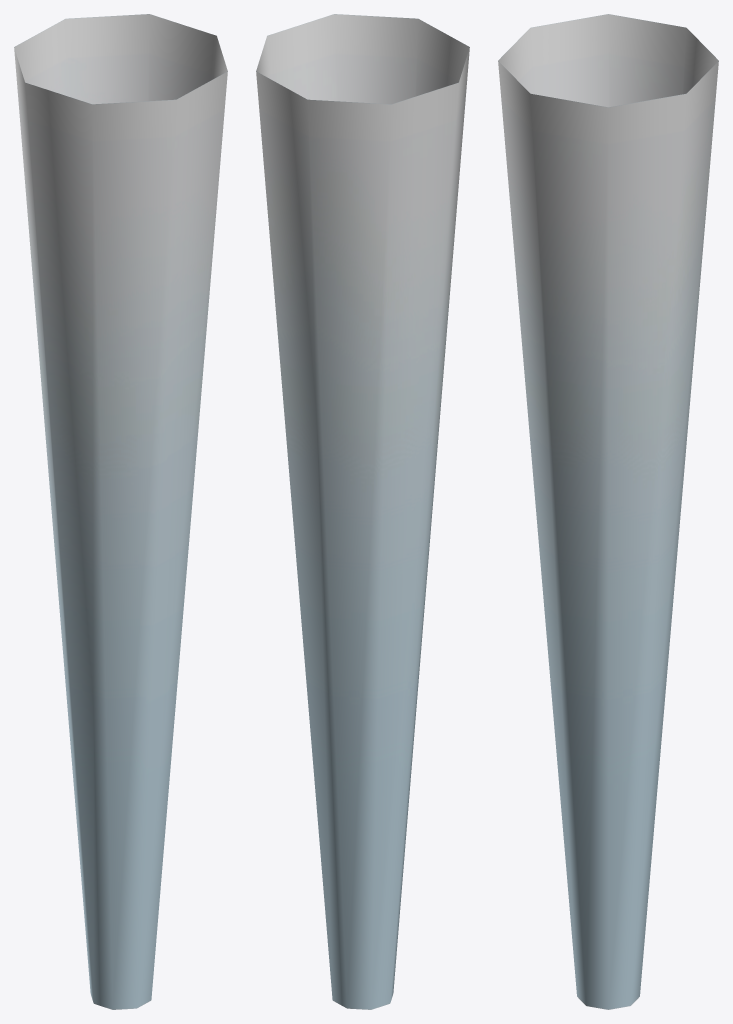
File: Searchlight.fbx
3 renders of one model, left to right at view 1: azimuth 30°, elevation 25°; view 2: azimuth 150°, elevation 25°; view 3: azimuth 270°, elevation 25°, orthographic.
Parts seen in each view (by area): view 1: Searchlight; view 2: Searchlight; view 3: Searchlight.
Boxes of the visible parts, box(x1,y1,x2,y2) form: Searchlight: box(14, 14, 227, 1009); Searchlight: box(256, 14, 469, 1009); Searchlight: box(498, 14, 718, 1009).
Bounding box in the file's own units: 25.59 × 120 × 25.59.
1 material, 1 textured.
